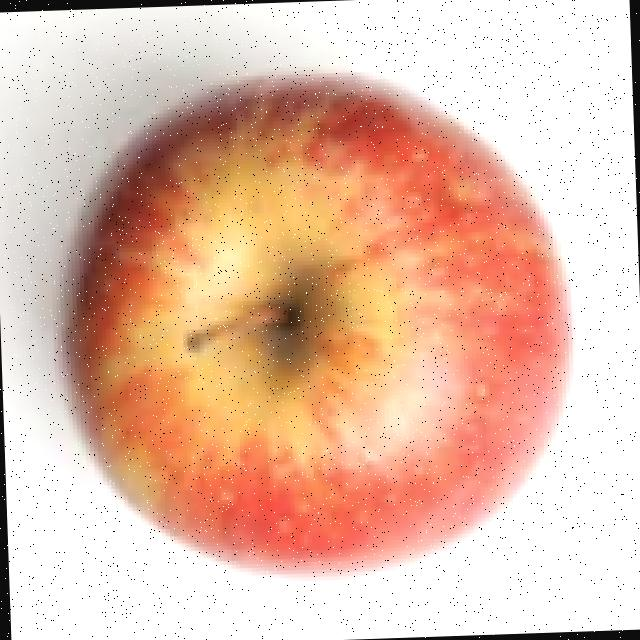Ripe: (48, 55, 584, 594)
